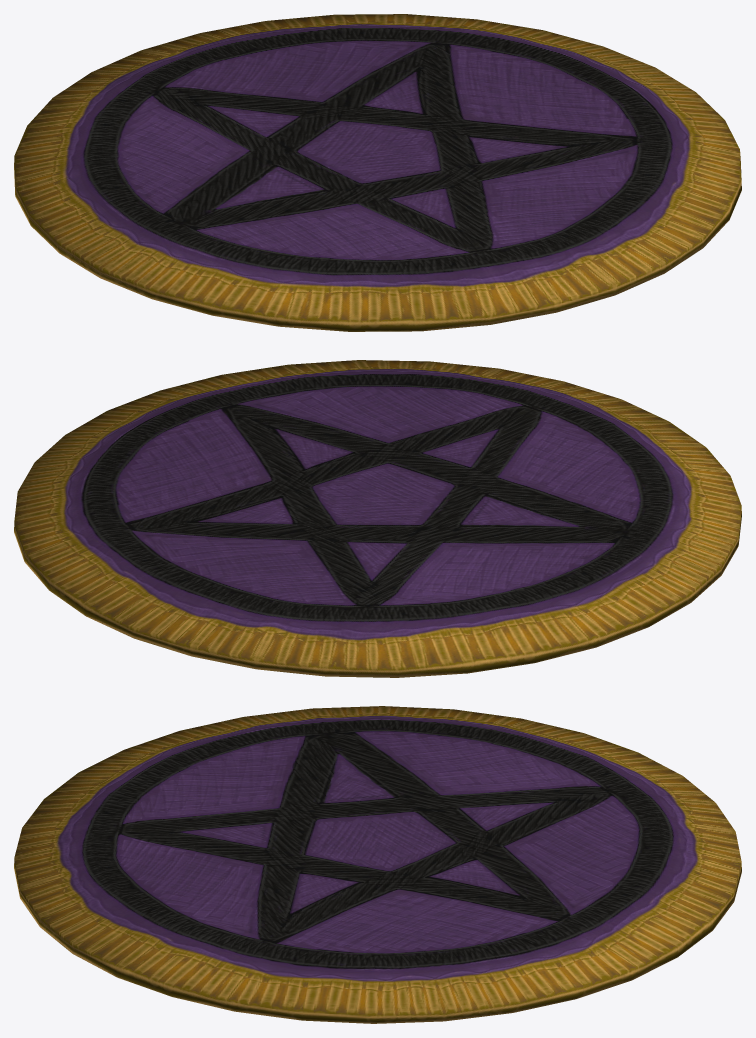
Rendered from Carpet with Pentagram.gltf.
3 renders of one model, top to bottom at view 1: azimuth 30°, elevation 25°; view 2: azimuth 150°, elevation 25°; view 3: azimuth 270°, elevation 25°, orthographic.
Parts seen in each view (by area): view 1: SM_Carpet_Pentagram; view 2: SM_Carpet_Pentagram; view 3: SM_Carpet_Pentagram.
Part boxes in pixels (x1,y1,x2,y2): SM_Carpet_Pentagram: [14, 14, 741, 331]; SM_Carpet_Pentagram: [14, 360, 741, 677]; SM_Carpet_Pentagram: [14, 706, 741, 1023].
Bounding box in the file's own units: 1.14 × 0.0489 × 1.14.
1 material, 1 textured.
